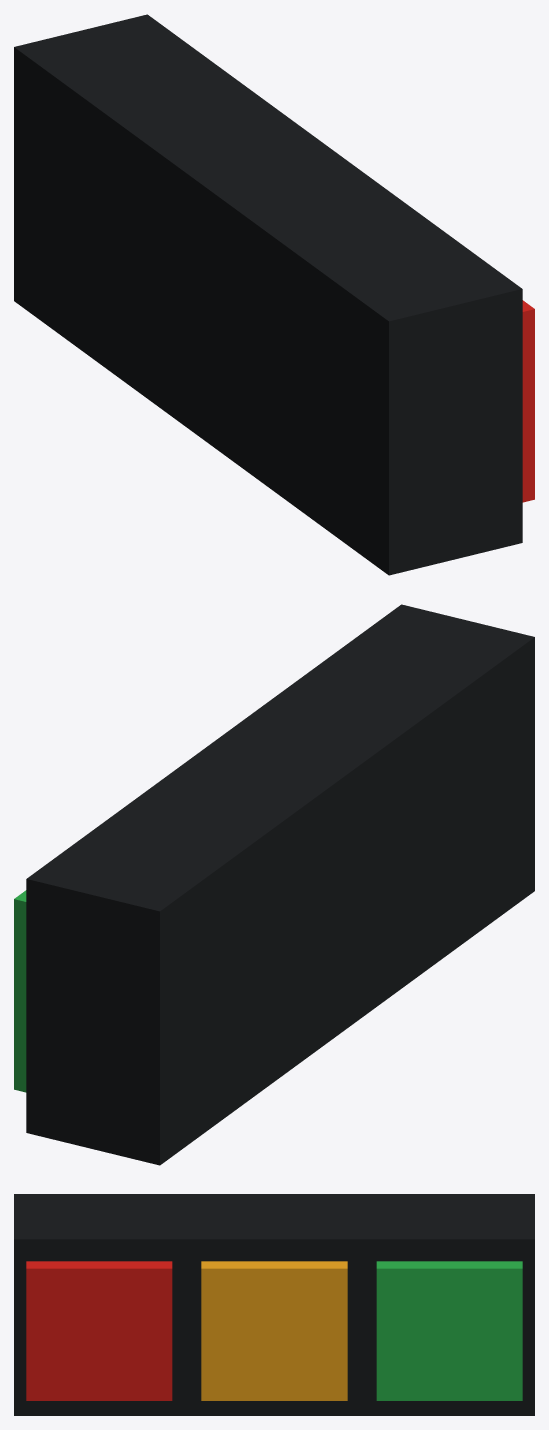
The model's file is signal_head.obj.
3 views of the same model, one above another, from view 1: azimuth 30°, elevation 25°; view 2: azimuth 150°, elevation 25°; view 3: azimuth 270°, elevation 25° (orthographic). The views are drawn at different scales.
Parts seen in each view (by area): view 1: signal_head_housing, signal_head_lamp_red; view 2: signal_head_housing, signal_head_lamp_green; view 3: signal_head_housing, signal_head_lamp_red, signal_head_lamp_amber, signal_head_lamp_green.
Part boxes in pixels (x1=…): signal_head_housing: x1=14, y1=14, x2=522, y2=575; signal_head_lamp_red: x1=522, y1=300, x2=534, y2=502; signal_head_housing: x1=26, y1=604, x2=534, y2=1165; signal_head_lamp_green: x1=14, y1=890, x2=26, y2=1092; signal_head_housing: x1=14, y1=1194, x2=534, y2=1415; signal_head_lamp_red: x1=26, y1=1261, x2=172, y2=1400; signal_head_lamp_amber: x1=201, y1=1261, x2=347, y2=1400; signal_head_lamp_green: x1=376, y1=1261, x2=522, y2=1400.
Bounding box in the file's own units: 0.255 × 0.4 × 1.07.
